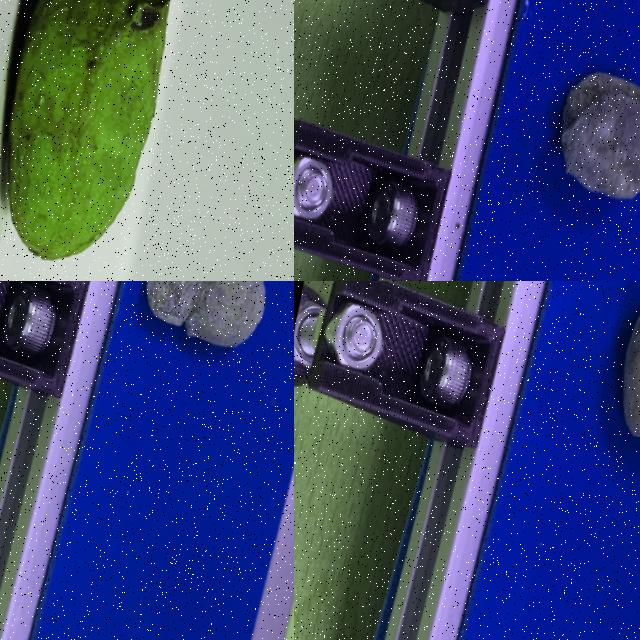Agglomerated_cocoabeans: (485, 0, 639, 280), (541, 281, 639, 590), (98, 281, 293, 428)
Fine_cocoabeans: (0, 0, 252, 280)
